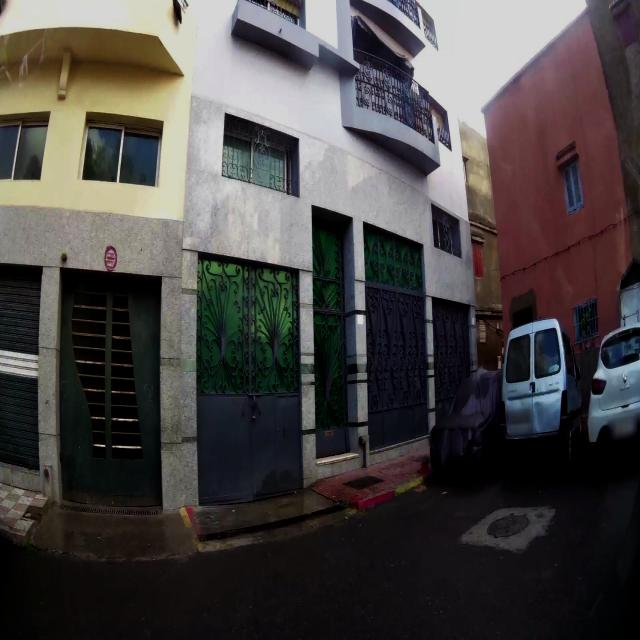car: (500, 316, 583, 474), (586, 319, 640, 481), (428, 367, 503, 482)
